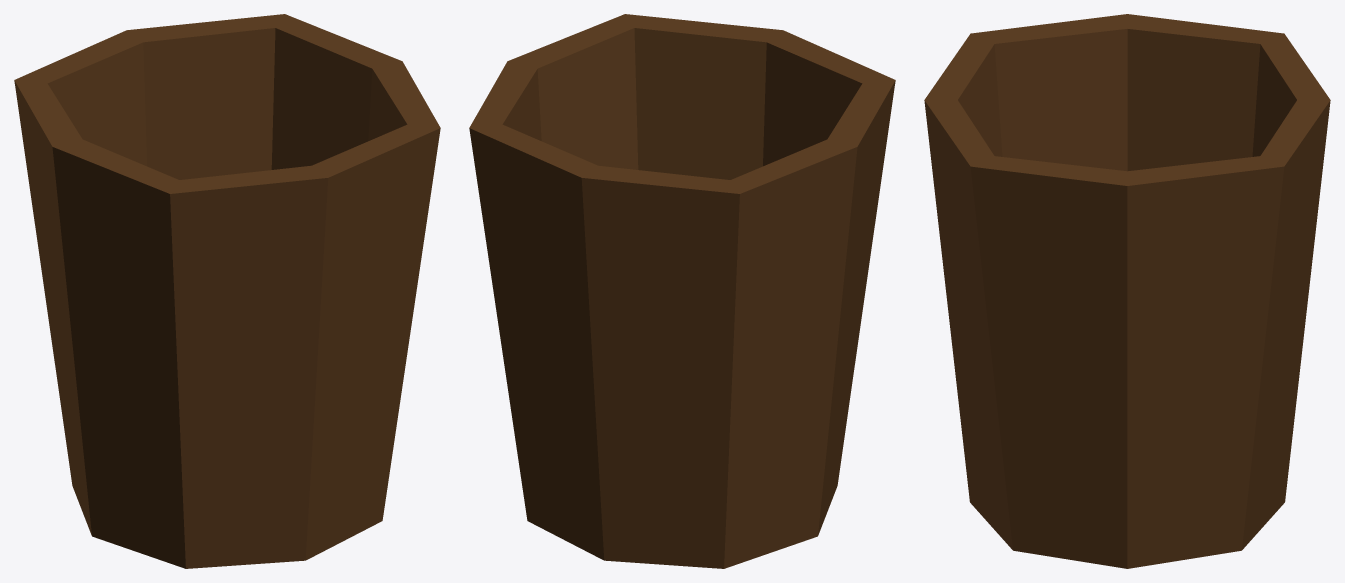
File: pot.glb
3 views of the same model, side by side, from view 1: azimuth 30°, elevation 25°; view 2: azimuth 150°, elevation 25°; view 3: azimuth 270°, elevation 25° (orthographic).
Visible parts, largest first — view 1: cup; view 2: cup; view 3: cup.
Part boxes in pixels (x1,y1,x2,y2): cup: [14, 14, 440, 568]; cup: [469, 14, 895, 568]; cup: [924, 14, 1330, 568].
Size of the model in its own units: 0.0783 by 0.0853 by 0.0781.
1 material, 1 textured.
